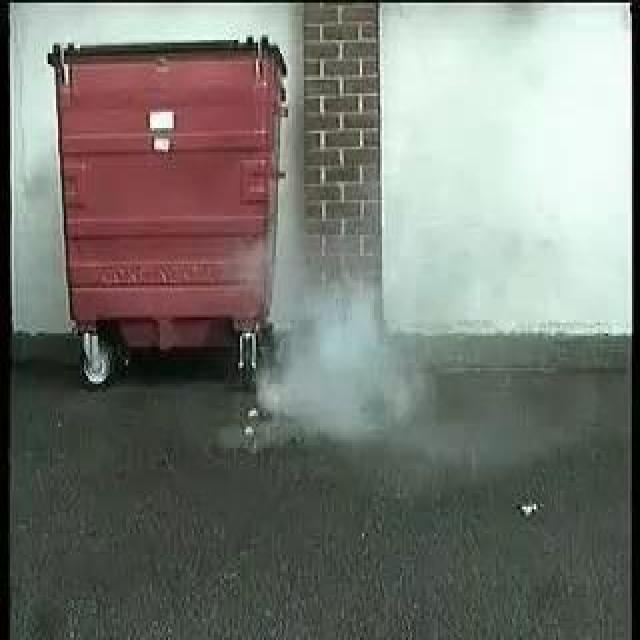Smoke: (259, 250, 423, 433)
